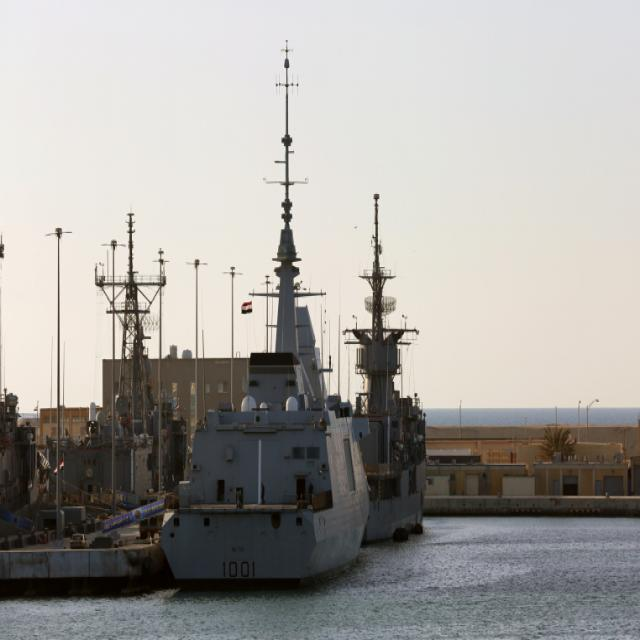Fragata: (153, 39, 369, 591), (341, 194, 430, 541)
